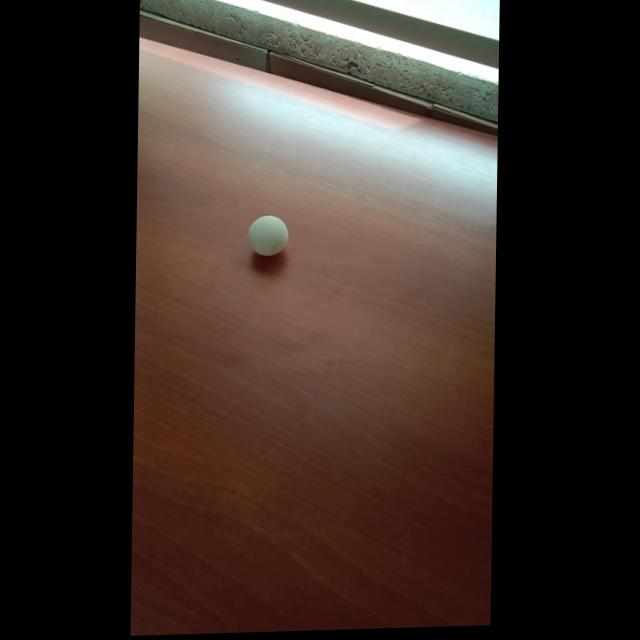white ball: (248, 214, 289, 258)
